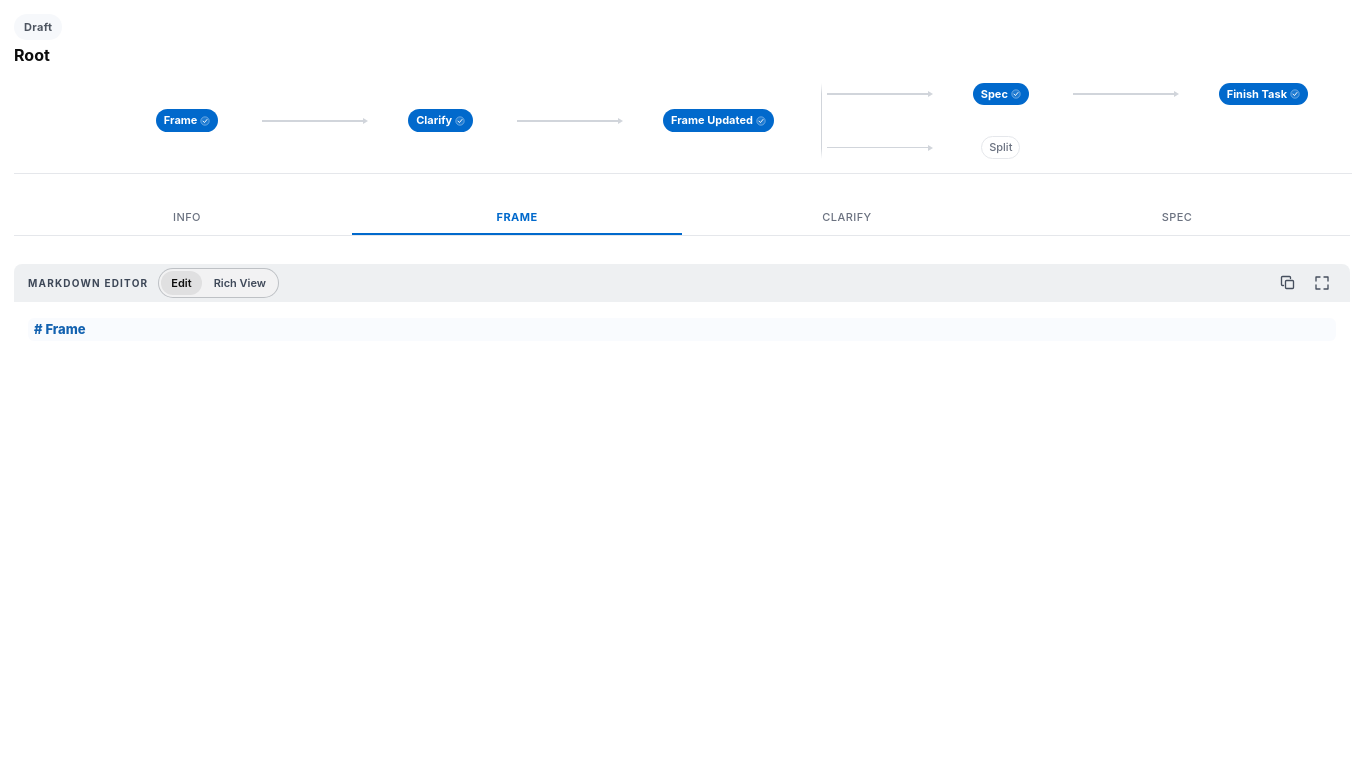
NodeDetailCard › shows stale banner on spec tab when spec_stale is true
Click the tab "Spec". click: [1177, 219]
box: [1012,202,1342,235]
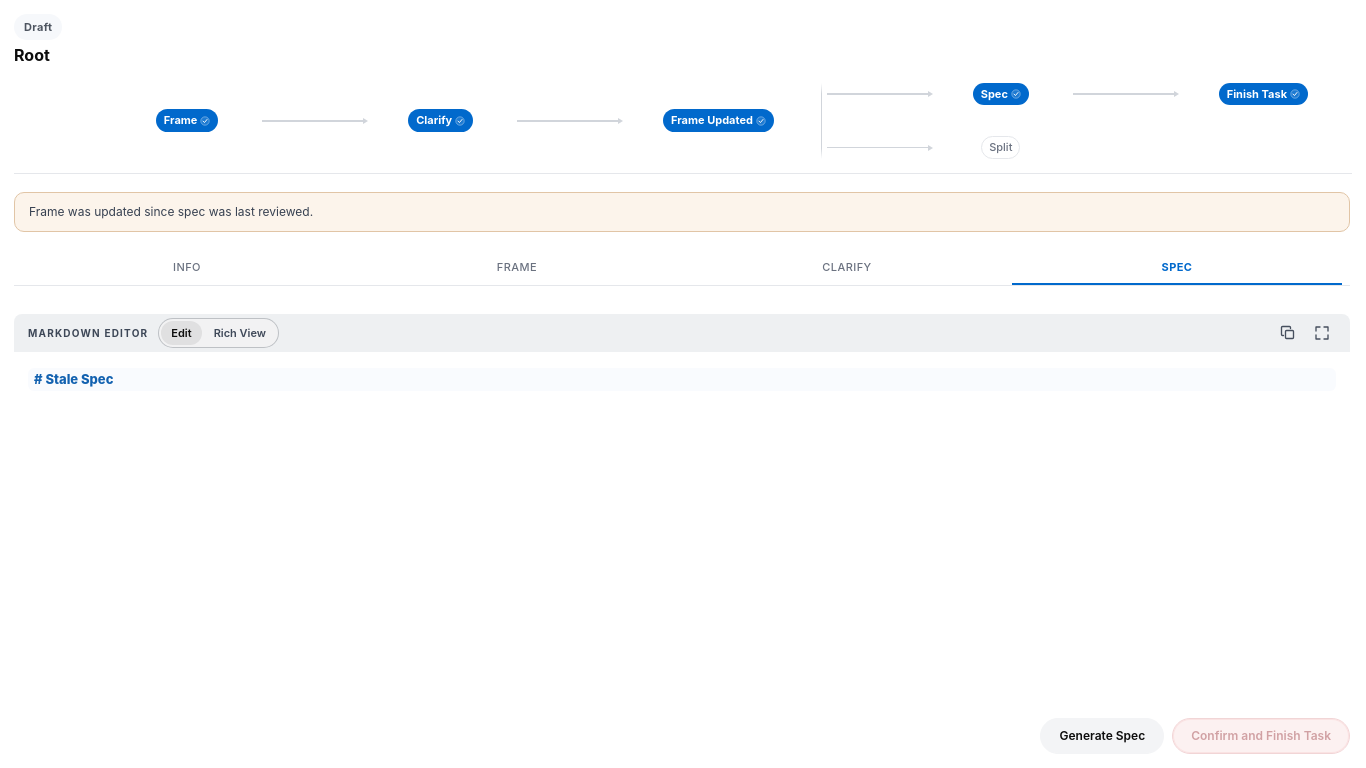
Check: the message "Frame was updated since spec was last reviewed." is shown, box [14,192,1350,232]
Check: the message with test id "stale-banner-spec" shows "Frame was updated", box [29,204,313,219]
